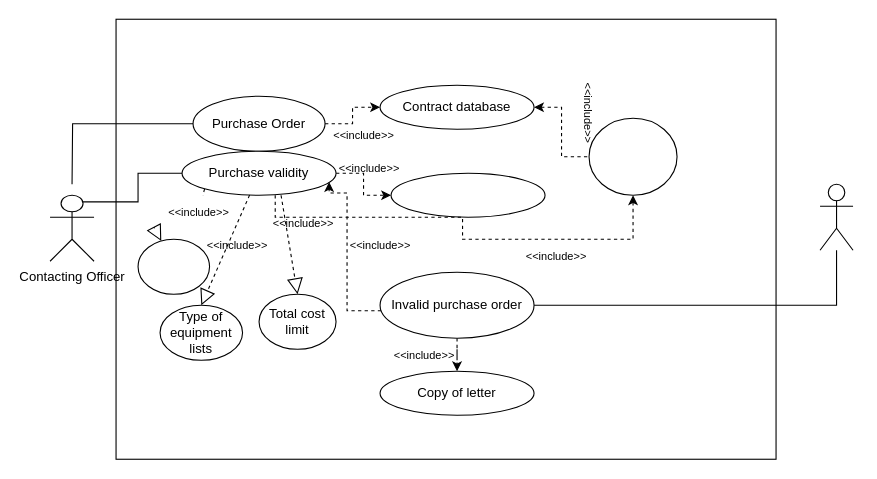
Some shapes in this 877 by 479 pixel diagram are drawn without their labels. The shapes that lost their labels are listed below. From the top down, each one's box as (x1, y1, x2, y2) in pixels, then its label:
(588, 117, 677, 195): Valid purchase order
(390, 172, 545, 217): Contract review
(819, 183, 853, 250): Agency
(137, 238, 210, 294): Contract expiry check
